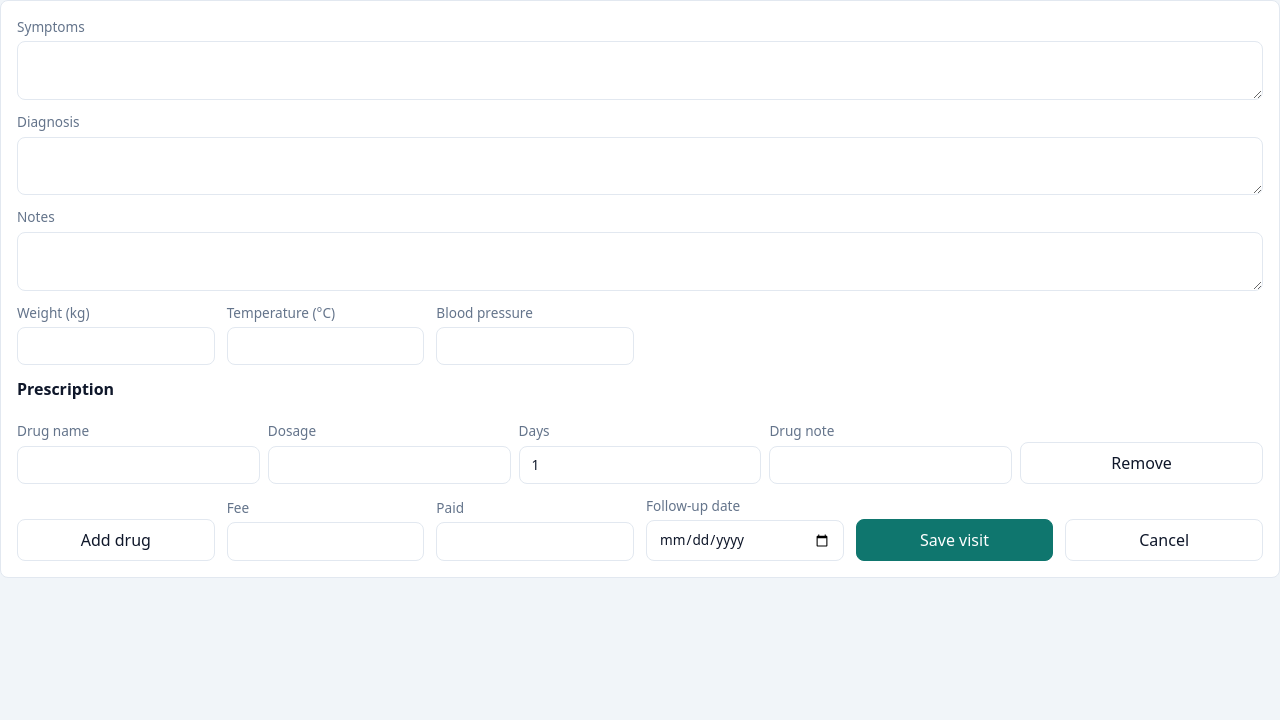
Test: adds and removes prescription rows
Expected: the number of fields labelled "Drug name" is 1, [17,446,260,484]
Click the button "Add drug" at coordinates (116, 540), box [17,519,215,561]
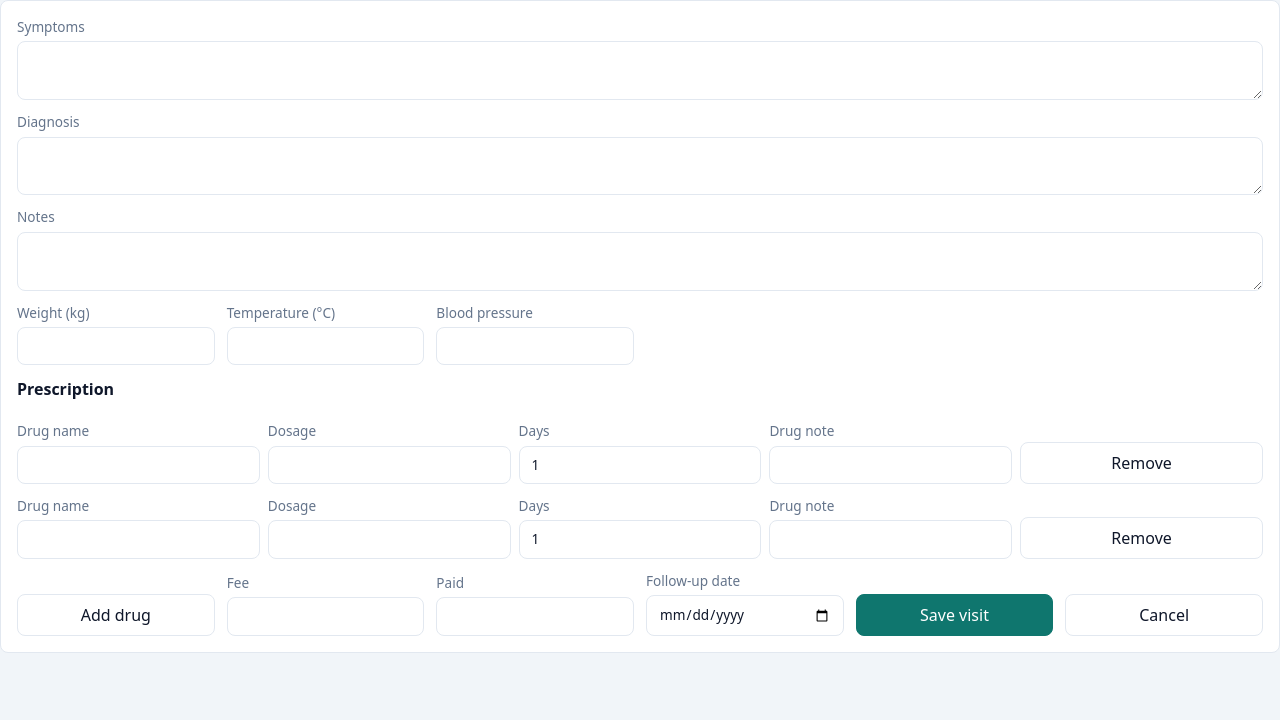
Result: the number of fields labelled "Drug name" is 2 at [17,446,260,484]; [17,520,260,559]
Click the 1st button "Remove" at coordinates (1142, 463), box [1020,442,1263,484]
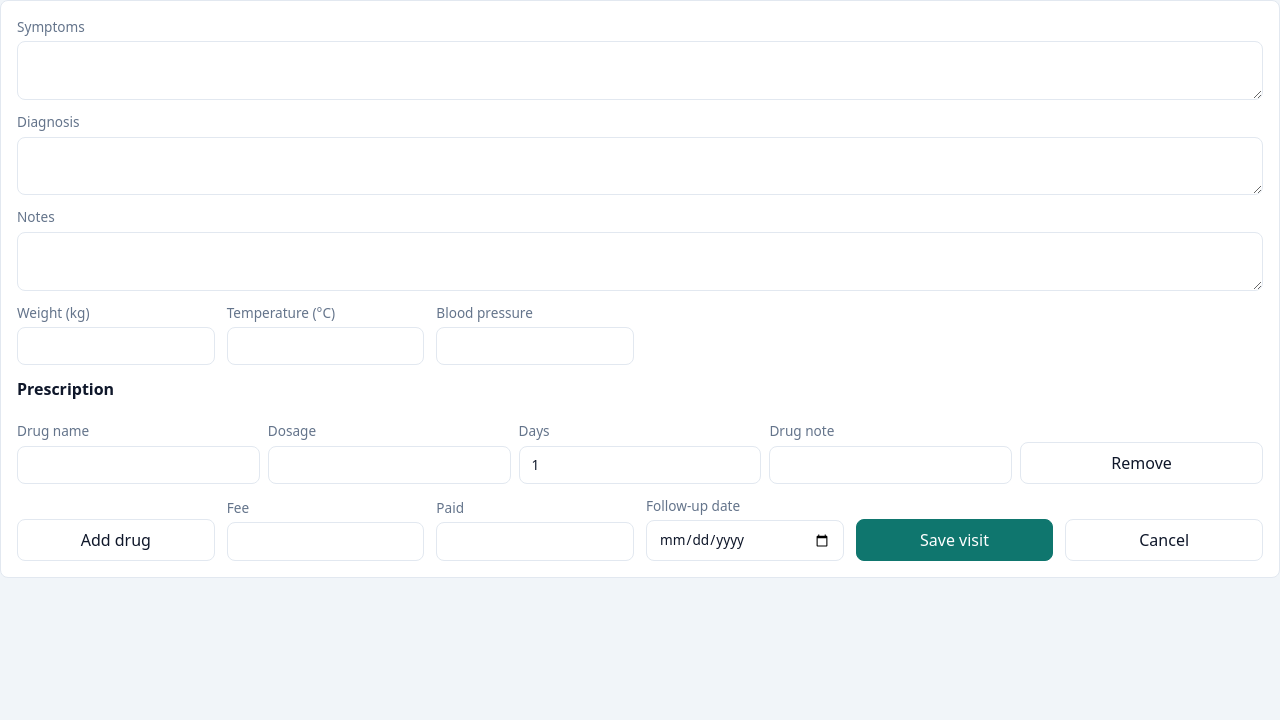
Result: the number of fields labelled "Drug name" is 1 at [17,446,260,484]
